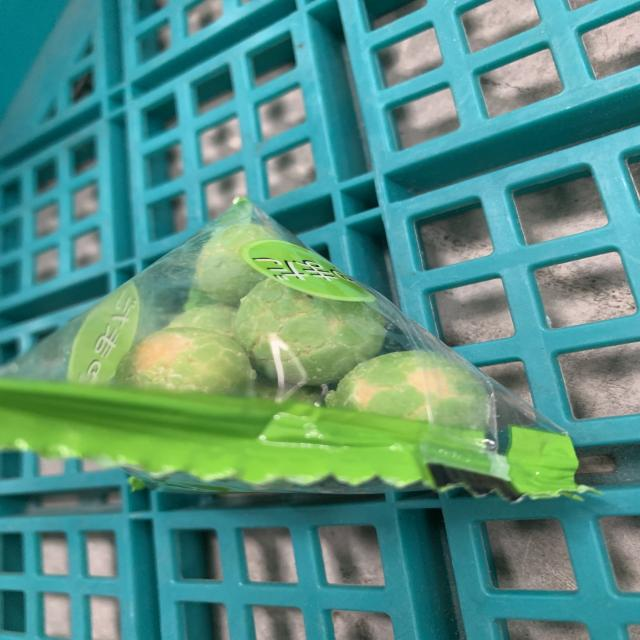object_name: (0, 205, 587, 503)
